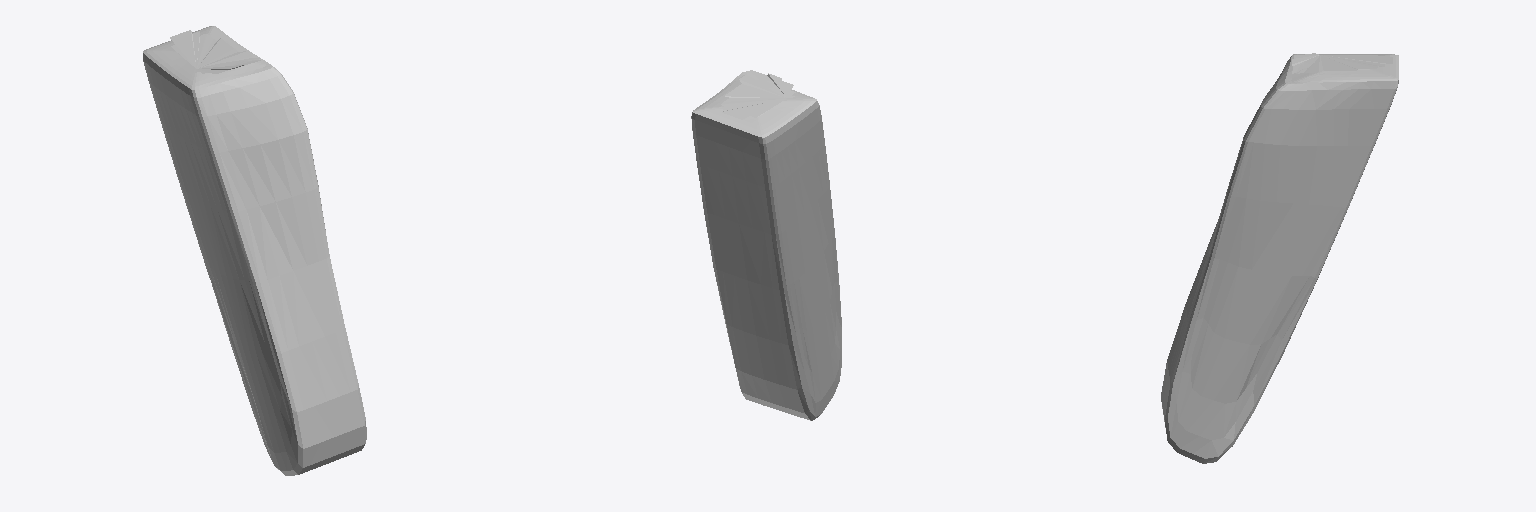
The model's file is Antebrazo Izquierdo.obj.
3 views of the same model, side by side, from view 1: azimuth 30°, elevation 25°; view 2: azimuth 150°, elevation 25°; view 3: azimuth 270°, elevation 25° (orthographic).
Parts seen in each view (by area): view 1: Cyborg.Mesh_Cube; view 2: Cyborg.Mesh_Cube; view 3: Cyborg.Mesh_Cube.
Boxes of the visible parts, box(x1,y1,x2,y2) form: Cyborg.Mesh_Cube: box(143, 26, 366, 475); Cyborg.Mesh_Cube: box(691, 70, 841, 420); Cyborg.Mesh_Cube: box(1161, 53, 1398, 463).
Size of the model in its own units: 0.7085 by 2.22 by 1.27.